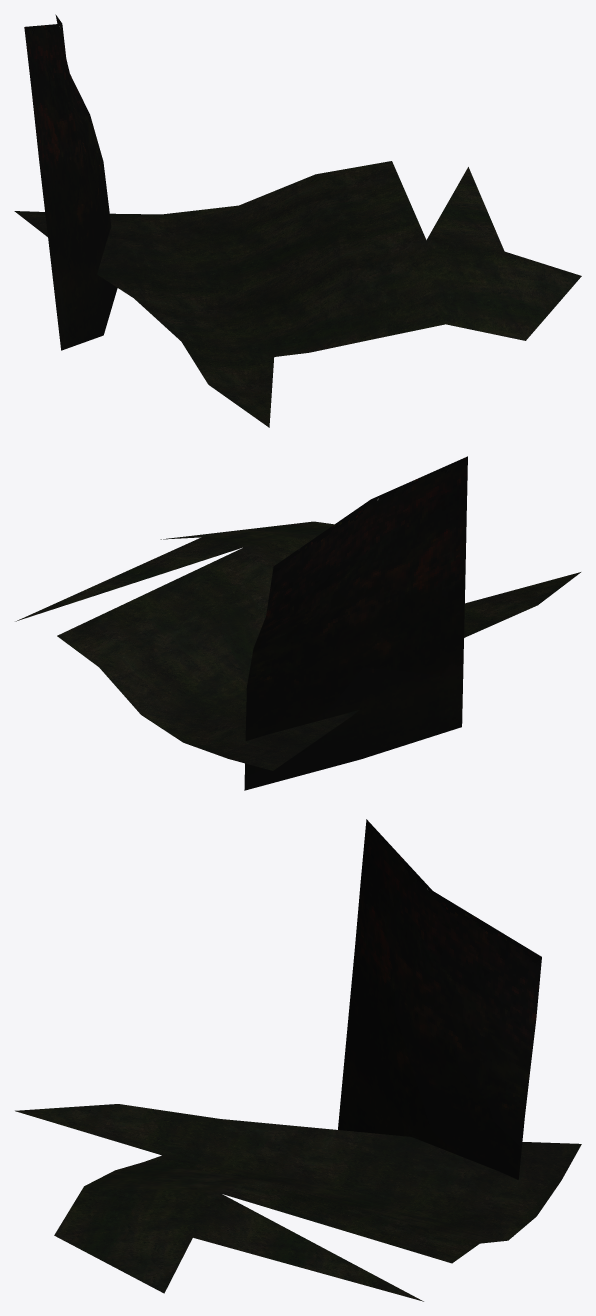
File: cell_3_-20.gltf
3 views of the same model, one above another, from view 1: azimuth 30°, elevation 25°; view 2: azimuth 150°, elevation 25°; view 3: azimuth 270°, elevation 25° (orthographic). The views are drawn at different scales.
Visible parts, largest first — view 1: cell_3_-20; view 2: cell_3_-20; view 3: cell_3_-20.
Boxes of the visible parts, x1,y1,x2,y2 form: cell_3_-20: (14, 14, 581, 427); cell_3_-20: (15, 456, 580, 790); cell_3_-20: (15, 819, 581, 1301).
Bounding box in the file's own units: 310 × 223 × 339.
Materials: 2 (2 with a texture image).
